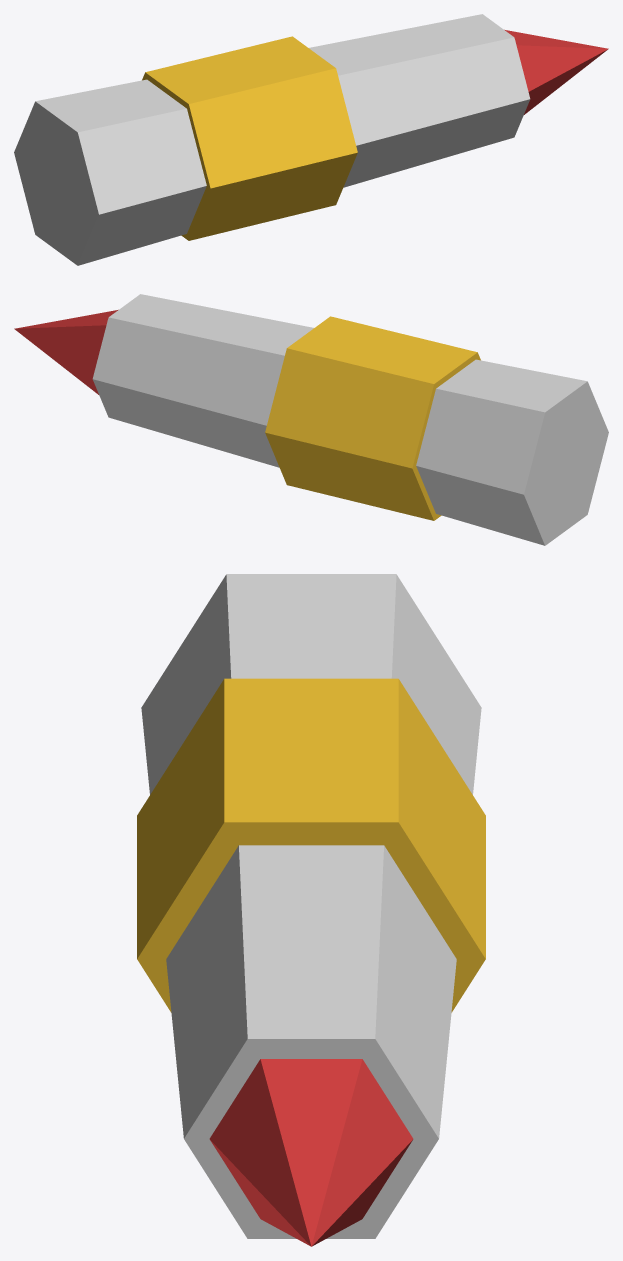
Rendered from glue_tube.glb.
3 renders of one model, top to bottom at view 1: azimuth 30°, elevation 25°; view 2: azimuth 150°, elevation 25°; view 3: azimuth 270°, elevation 25°, orthographic. The views are drawn at different scales.
Visible parts, largest first — view 1: tube_glue_tube, band_glue_band, cap_glue_cap; view 2: tube_glue_tube, band_glue_band, cap_glue_cap; view 3: tube_glue_tube, band_glue_band, cap_glue_cap.
Boxes of the visible parts, bbox=[...] form: tube_glue_tube: bbox=[14, 14, 530, 265]; band_glue_band: bbox=[142, 36, 357, 240]; cap_glue_cap: bbox=[504, 29, 608, 114]; tube_glue_tube: bbox=[92, 294, 608, 545]; band_glue_band: bbox=[265, 316, 480, 520]; cap_glue_cap: bbox=[14, 309, 118, 394]; tube_glue_tube: bbox=[141, 574, 481, 1238]; band_glue_band: bbox=[137, 678, 485, 1012]; cap_glue_cap: bbox=[209, 1059, 413, 1246].
Size of the model in its own units: 0.15 by 0.0355 by 0.041.
